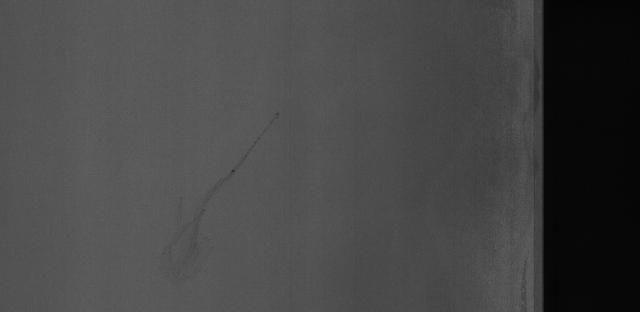water_spot: (165, 111, 317, 276)
